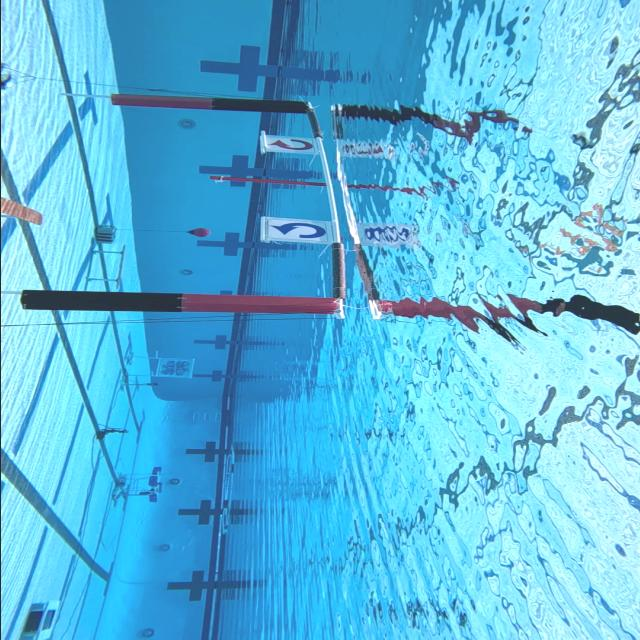blue_side: (257, 216, 333, 246)
red_side: (261, 134, 319, 158)
